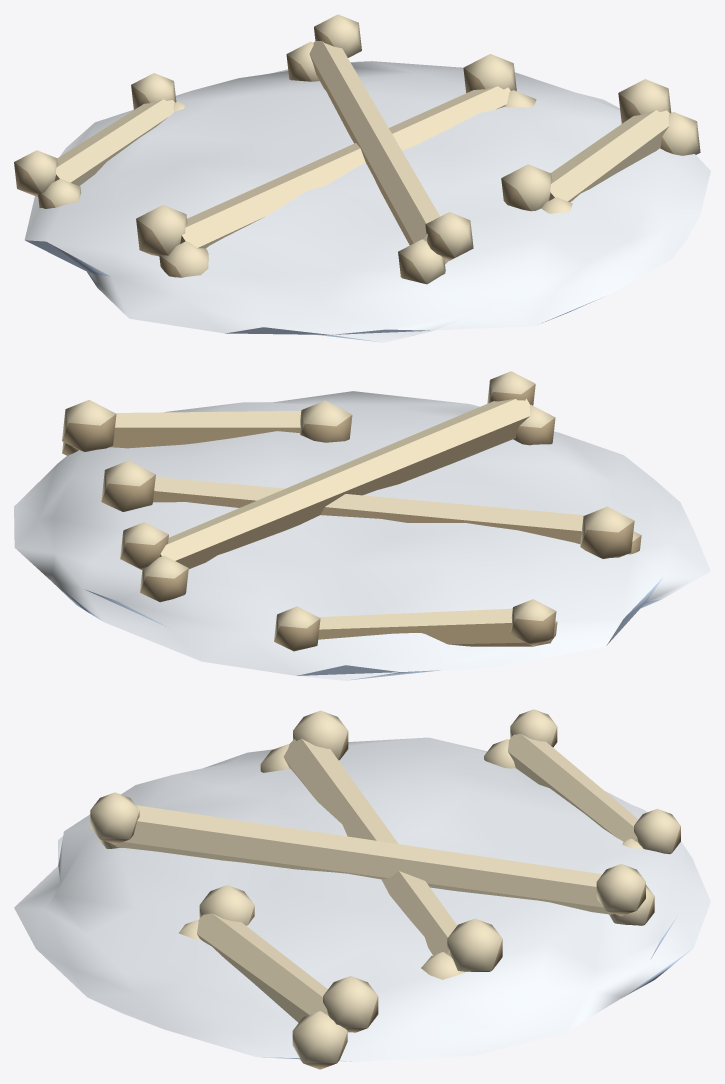
The model's file is BonePile.fbx.
3 renders of one model, top to bottom at view 1: azimuth 30°, elevation 25°; view 2: azimuth 150°, elevation 25°; view 3: azimuth 270°, elevation 25°, orthographic. The views are drawn at different scales.
Visible parts, largest first — view 1: BonePile; view 2: BonePile; view 3: BonePile.
Part boxes in pixels (bbox=[...]): BonePile: bbox=[14, 14, 710, 342]; BonePile: bbox=[14, 371, 710, 680]; BonePile: bbox=[14, 709, 710, 1069].
Bounding box in the file's own units: 1.21 × 0.2011 × 1.13.
Materials: 1 (1 with a texture image).
